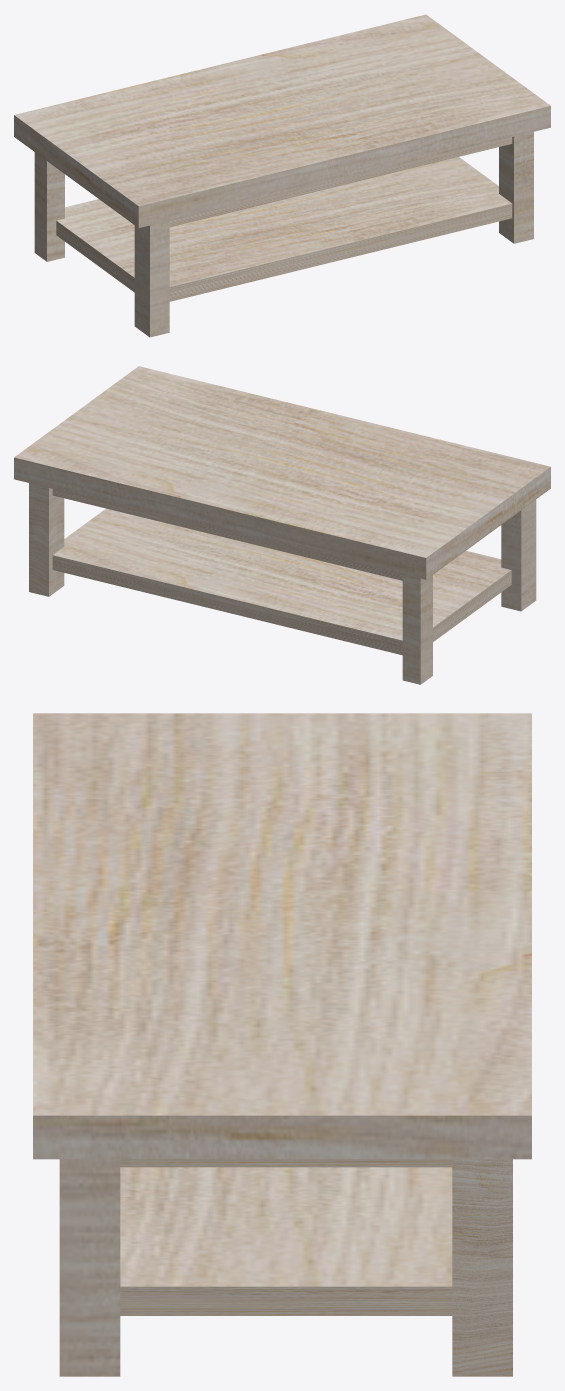
The model's file is CoffeeTable.fbx.
3 views of the same model, one above another, from view 1: azimuth 30°, elevation 25°; view 2: azimuth 150°, elevation 25°; view 3: azimuth 270°, elevation 25° (orthographic). The views are drawn at different scales.
Visible parts, largest first — view 1: Tabletop; view 2: Tabletop; view 3: Tabletop.
Part boxes in pixels (x1,y1,x2,y2): Tabletop: (14, 14, 550, 337); Tabletop: (14, 366, 550, 684); Tabletop: (33, 713, 531, 1376).
Bounding box in the file's own units: 1.91 × 0.5992 × 1.
